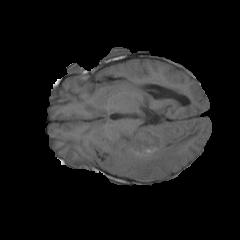glioma: (102, 126, 200, 181)
